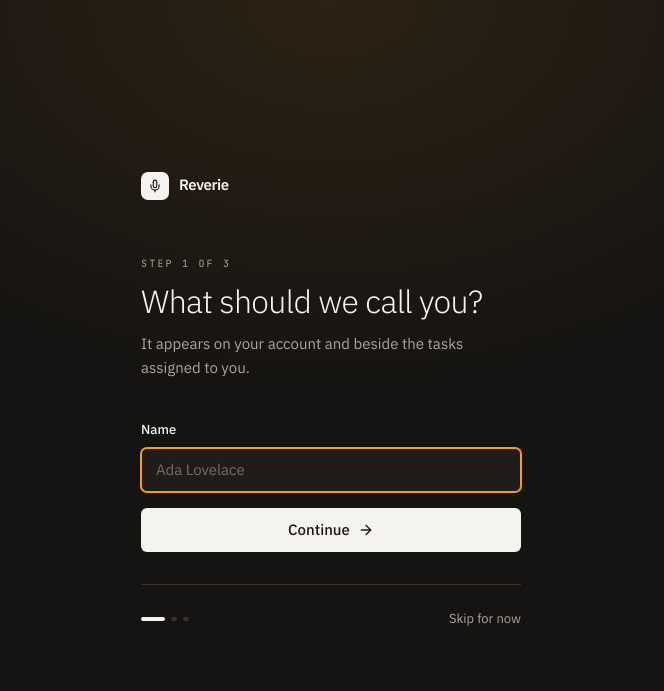
it: what it asks › asks for a name and a language, and nothing else
This screenshot has width=664, height=691.
Expected: the field labelled "Name" is shown, [141, 448, 521, 492]
Click the button "Continue" at point(331, 530), box [141, 508, 521, 552]
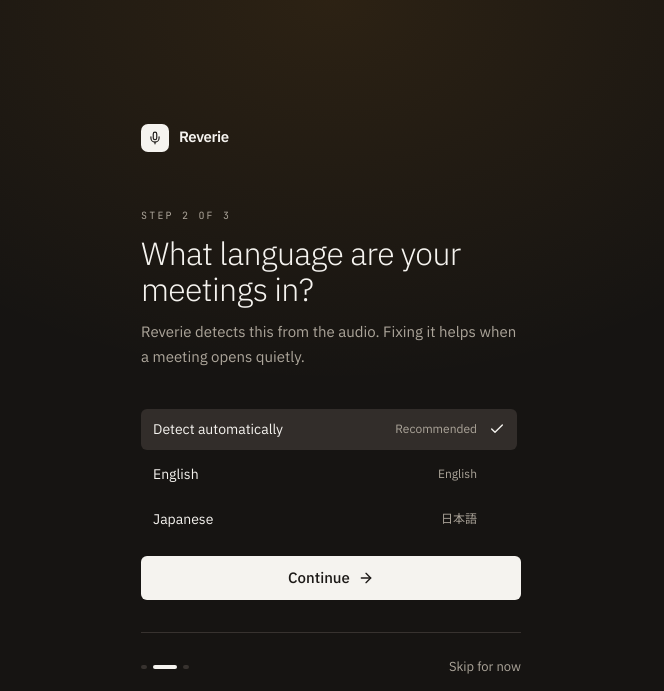
Now the radio button labelled "Detect automatically Recommended" is shown, box [141, 409, 517, 450]
